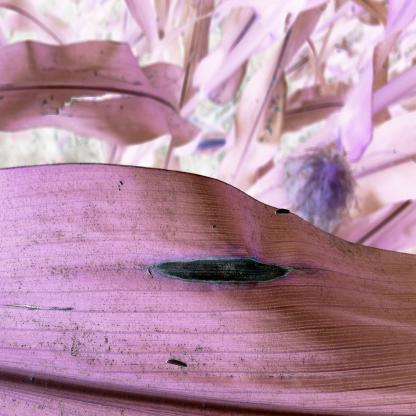Corn Gray leaf spot: (2, 148, 416, 405)
